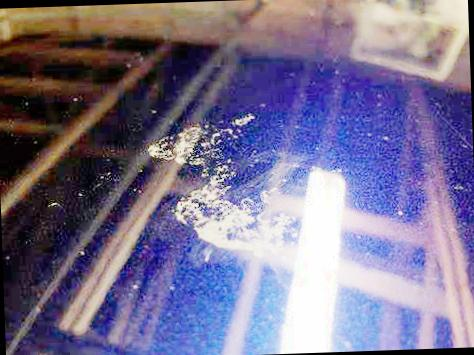Bird Poop: (149, 113, 297, 256)
